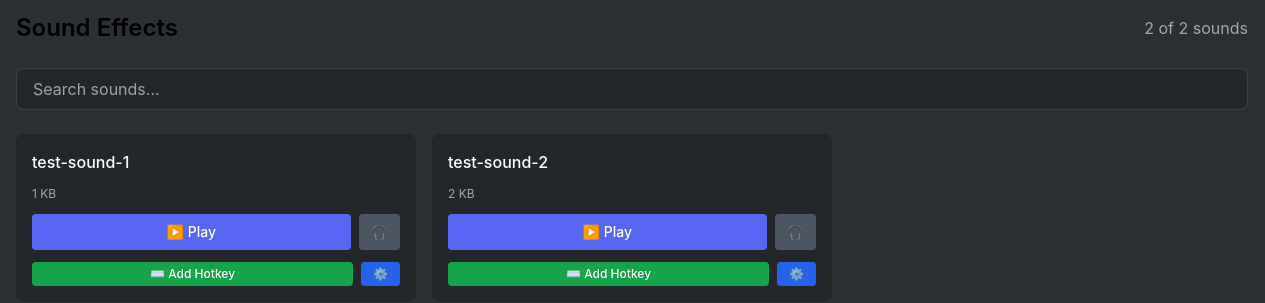
it: SoundBoard Component › filters sounds based on search input
Type "test-sound-1" into the field with placeholder "Search sounds...".
click(632, 89); type("test-sound-1")  # box [16,68,1248,110]
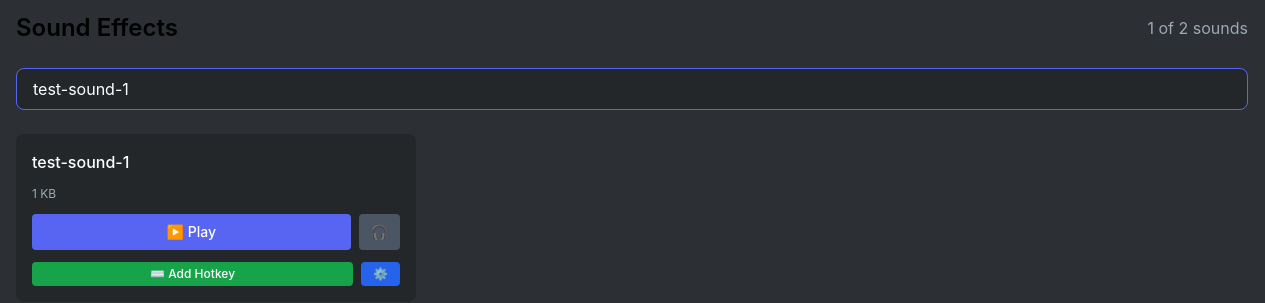
Expected: the heading "test-sound-1" is shown, [32,152,129,172]
Expected: the heading "test-sound-2" is gone
Expected: the text "1 of 2 sounds" is shown, [1148,16,1248,40]
